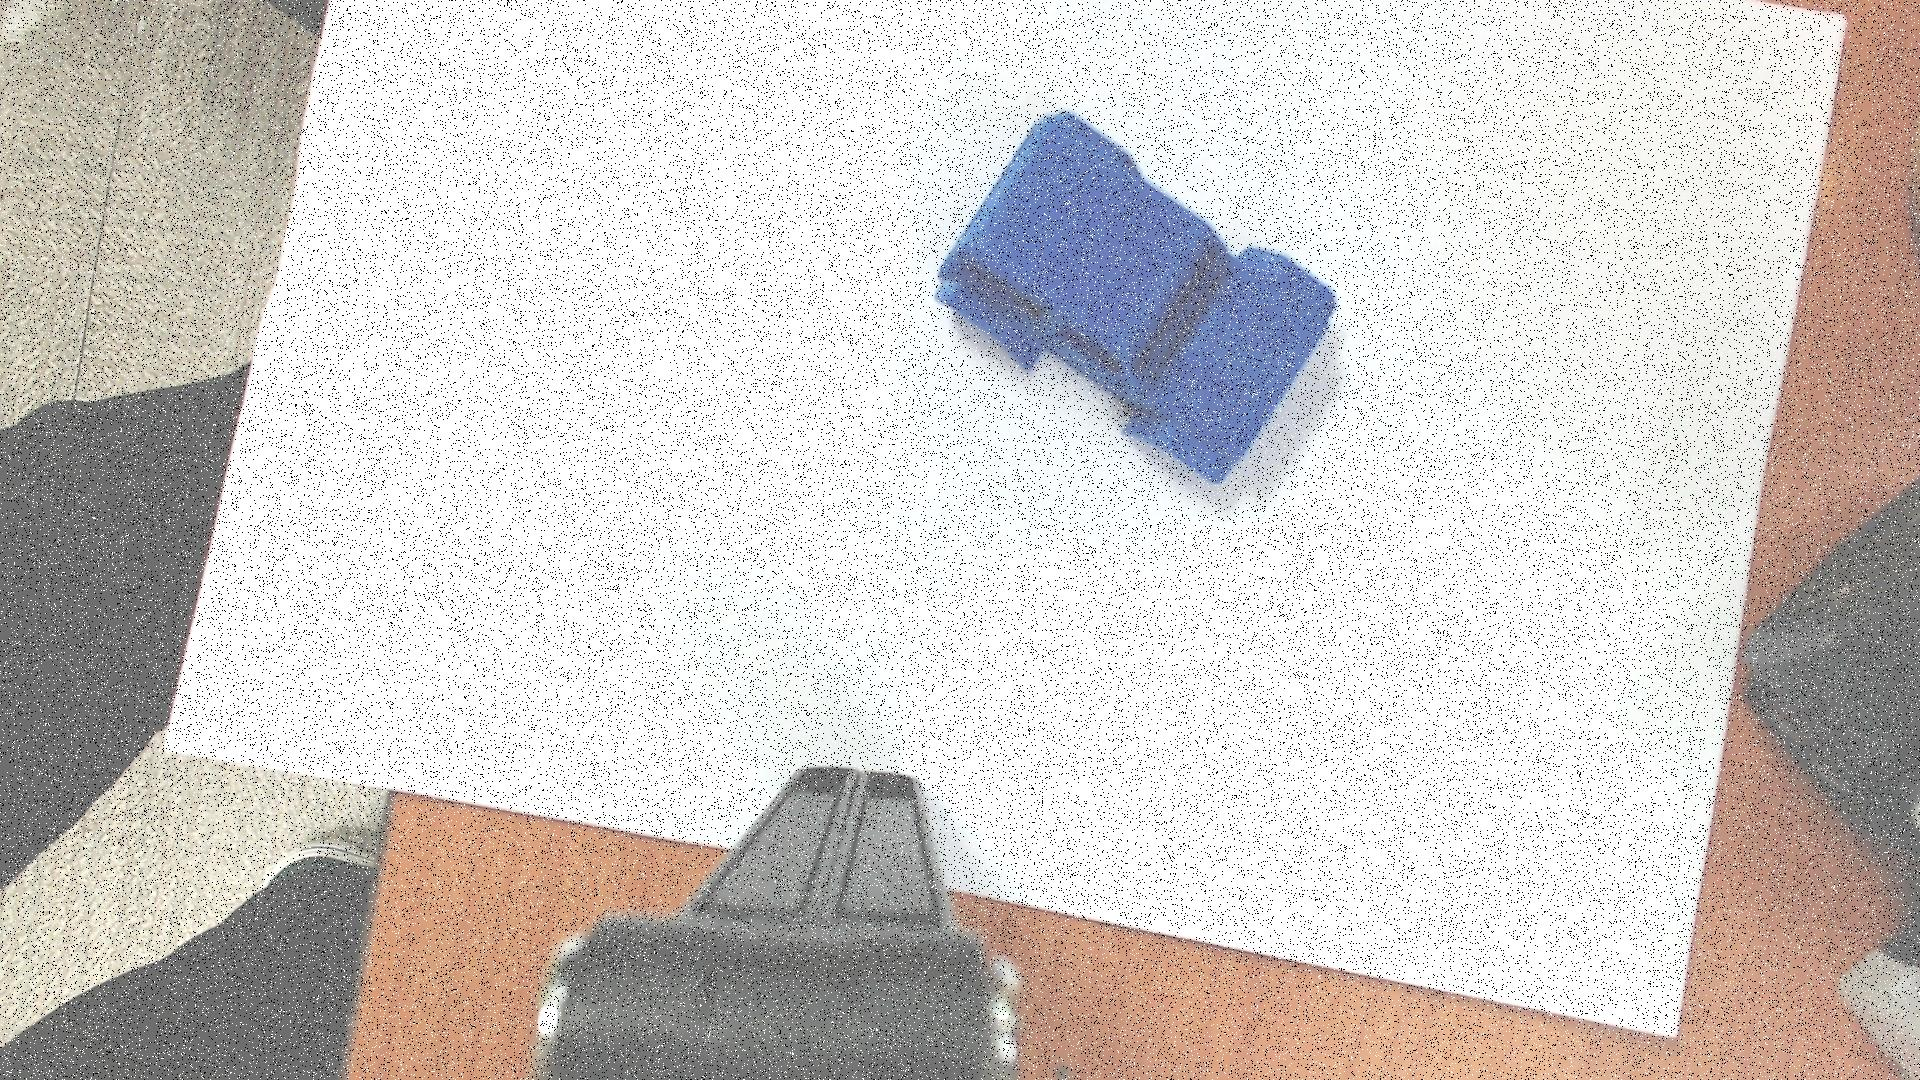Upper_ng: (936, 112, 1336, 483)
